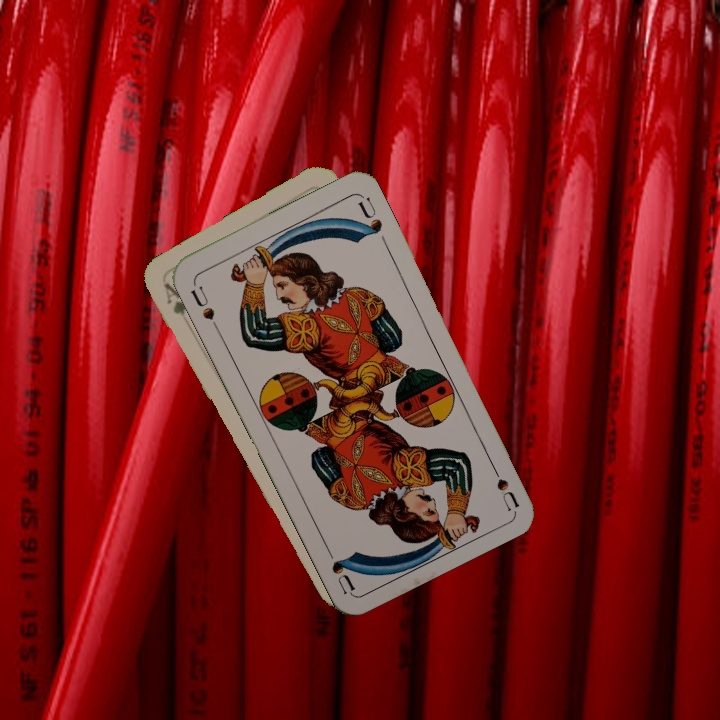GA: (159, 279, 194, 334)
SU: (484, 455, 521, 512), (186, 278, 222, 333)
